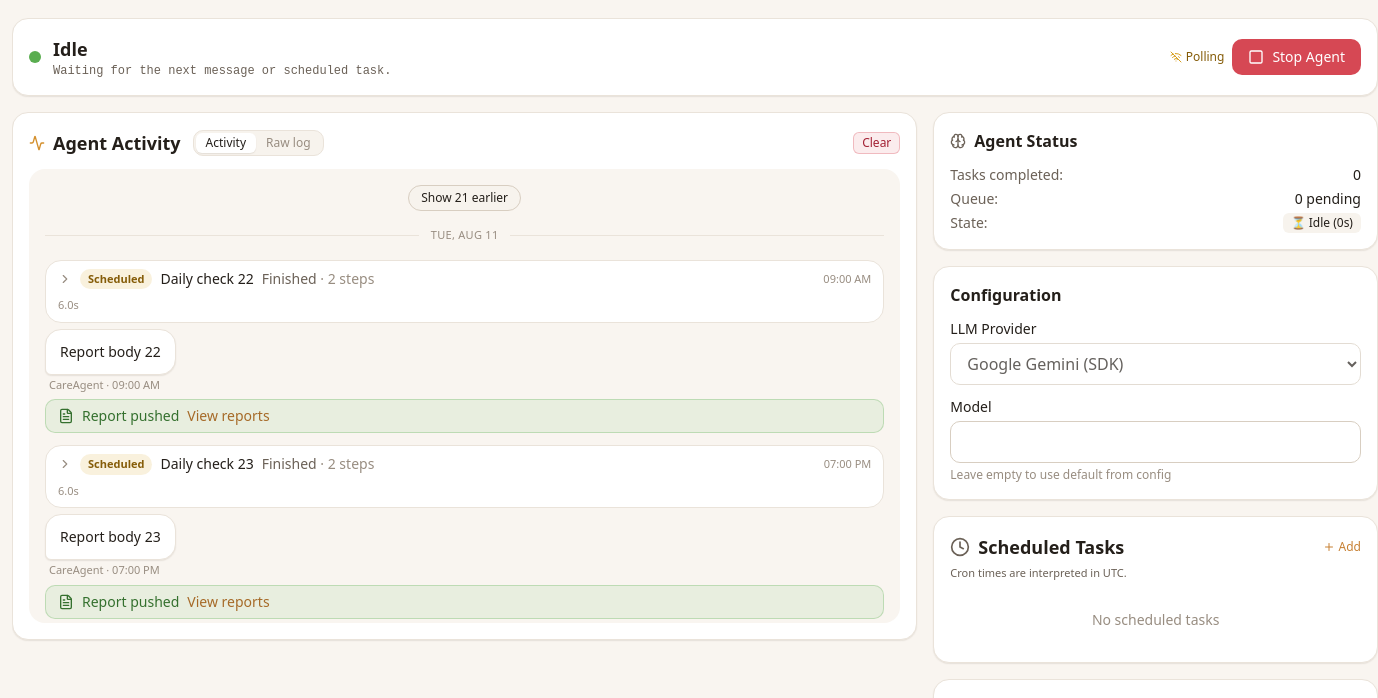
Test: AutonomousAgentMonitor with persisted history › renders every historic day as one block per run, oldest first, with day separators and lazy "show earlier"
Expected: the text "You slept well." is not shown
Click the button "Show 21 earlier" at (465, 198), box [408, 185, 521, 211]
(page scrolled)
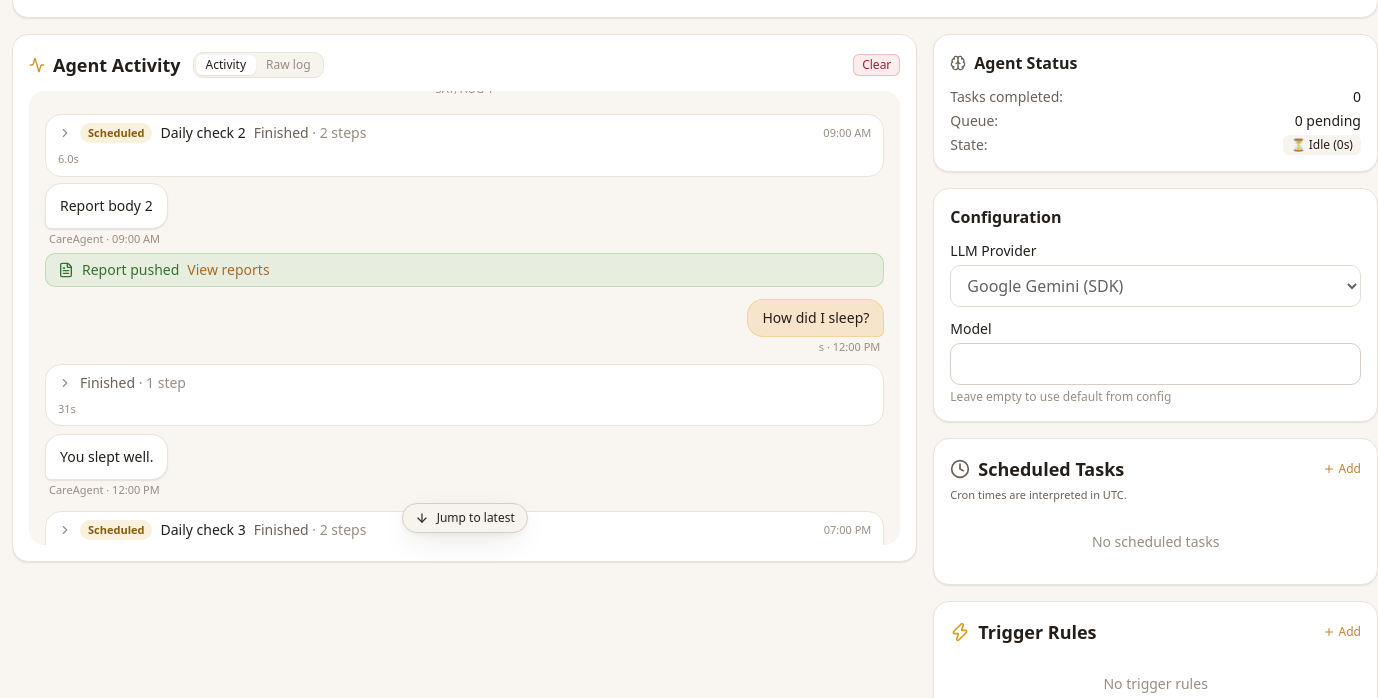
Expected: the text "You slept well." is shown, [60, 445, 153, 469]
Expected: the text "How did I sleep?" is shown, [748, 299, 884, 337]
